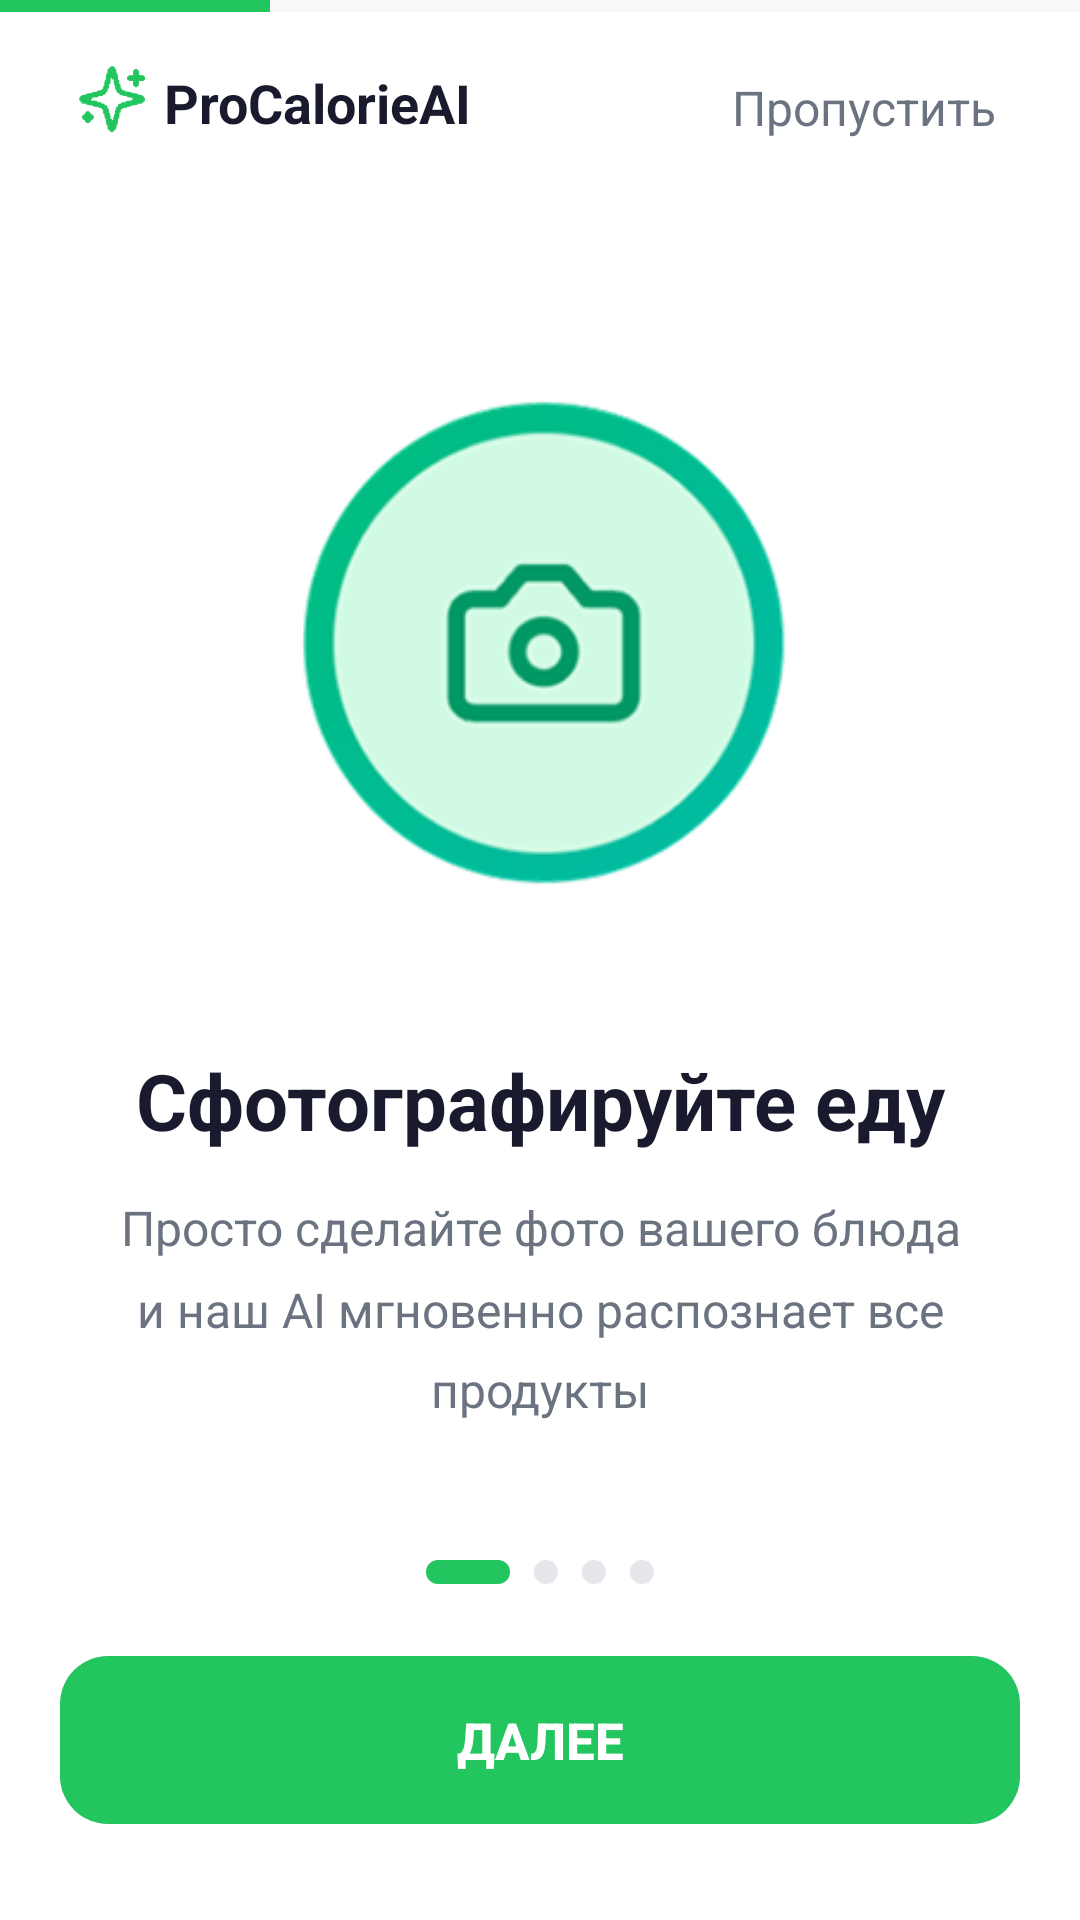

Named icons in this screenshot (1080 x 1920) and their bounding boxes, (x1, y1, x2, y2):
star: (79, 66, 145, 133)
